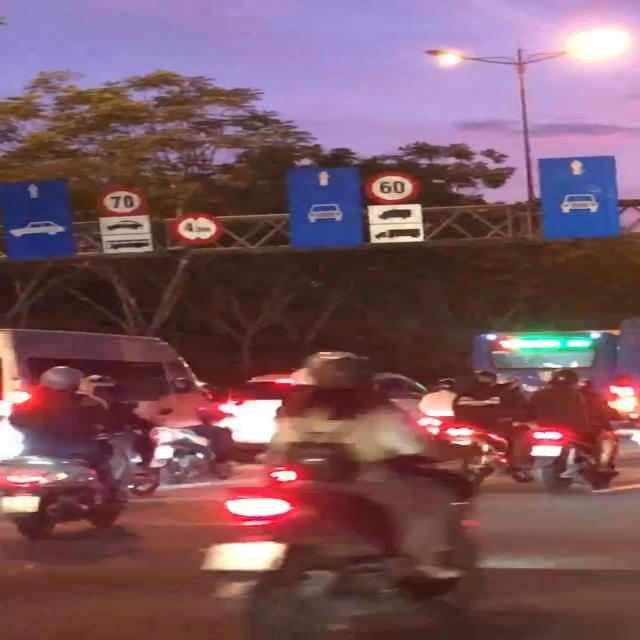Bien bao han che chieu cao: (171, 210, 223, 247)
Bien bao toc do toi da cho phep: (359, 170, 428, 204), (91, 185, 150, 219)
